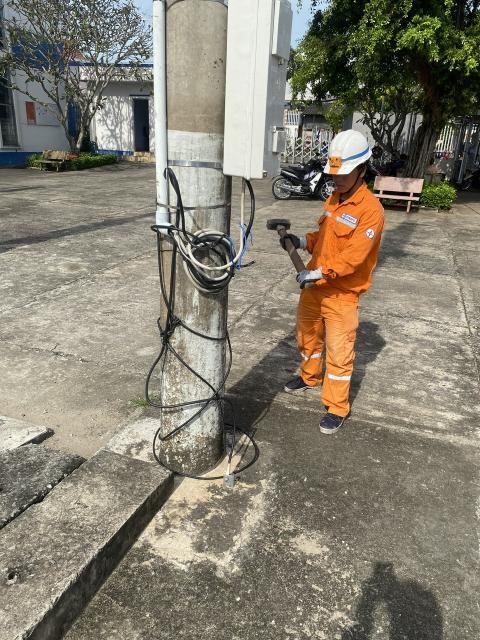gloves: (268, 229, 310, 250), (298, 266, 336, 287)
helmet: (327, 124, 374, 181)
shoes: (308, 396, 358, 437), (267, 362, 320, 398)
